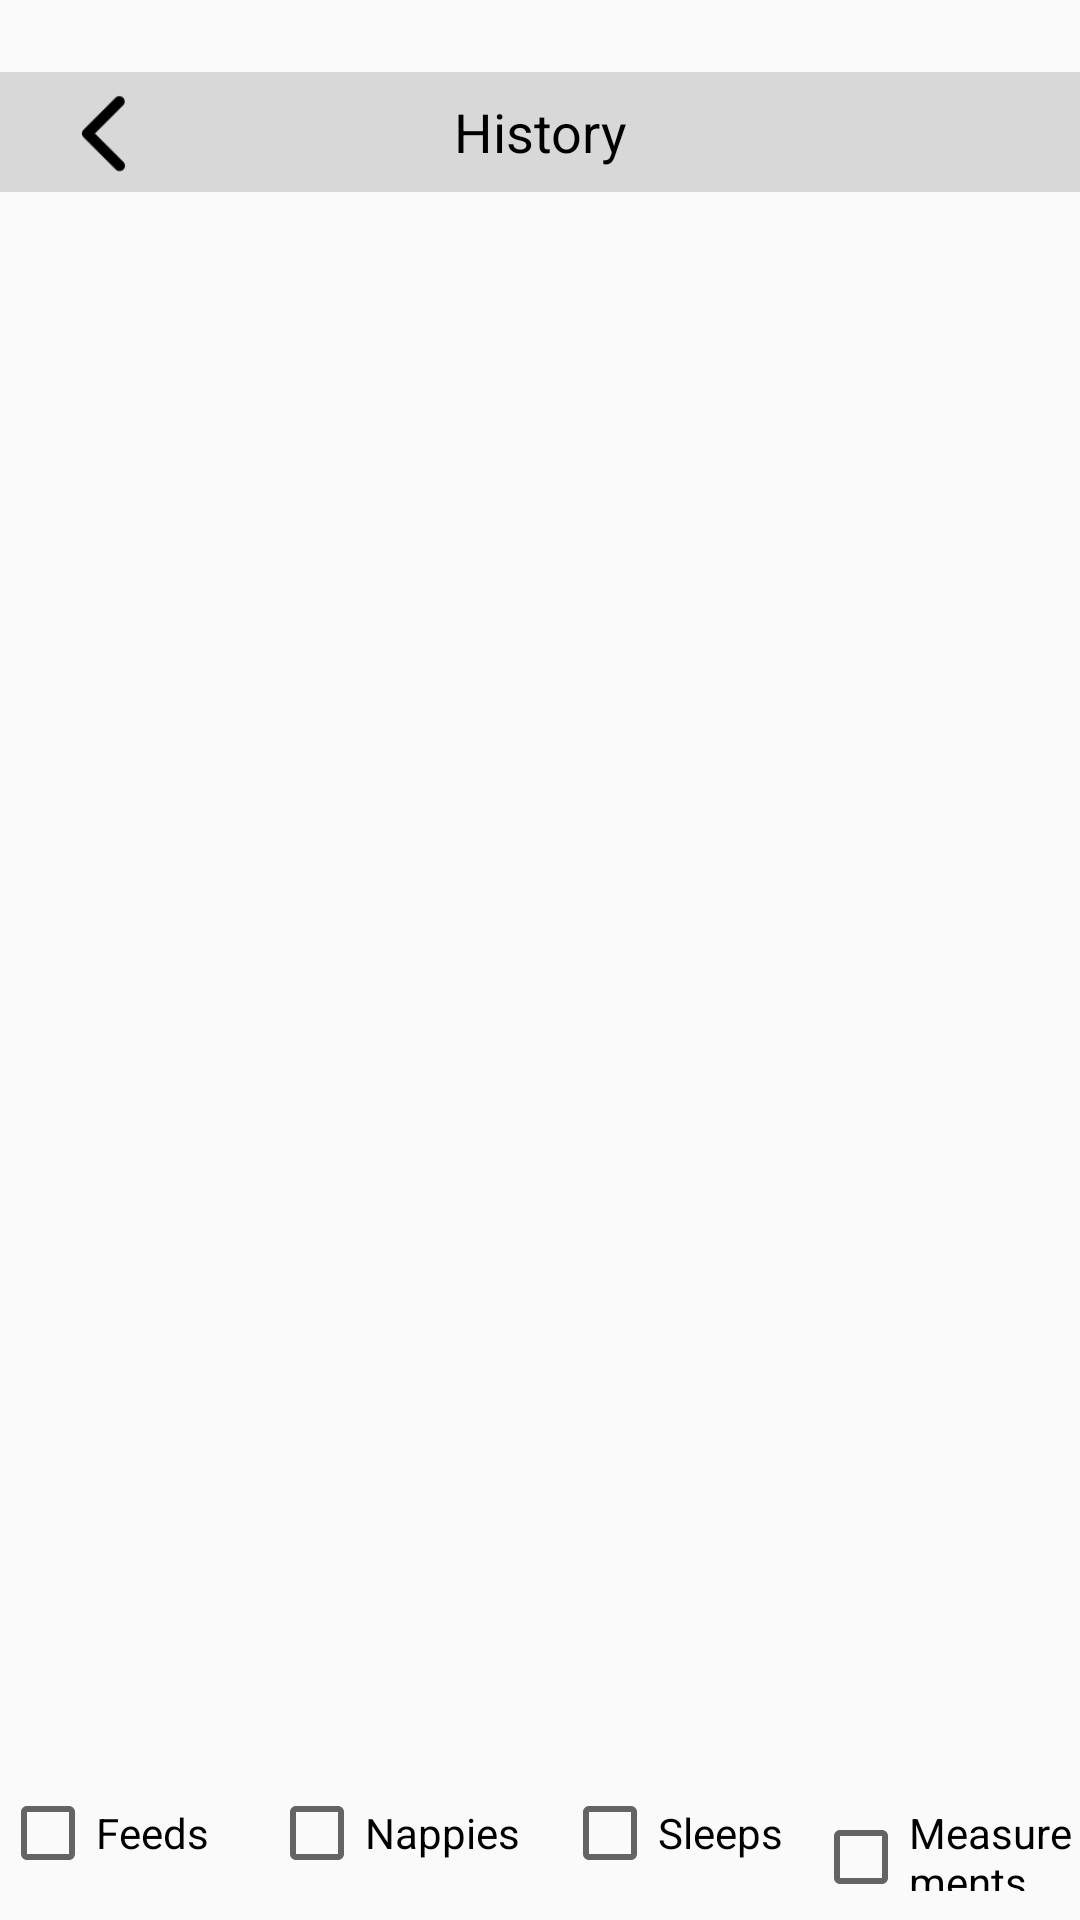

Screen size 1080px x 1920px. Icon name, then its center in pixels as (x=x, y=y):
left: (x=103, y=133)
